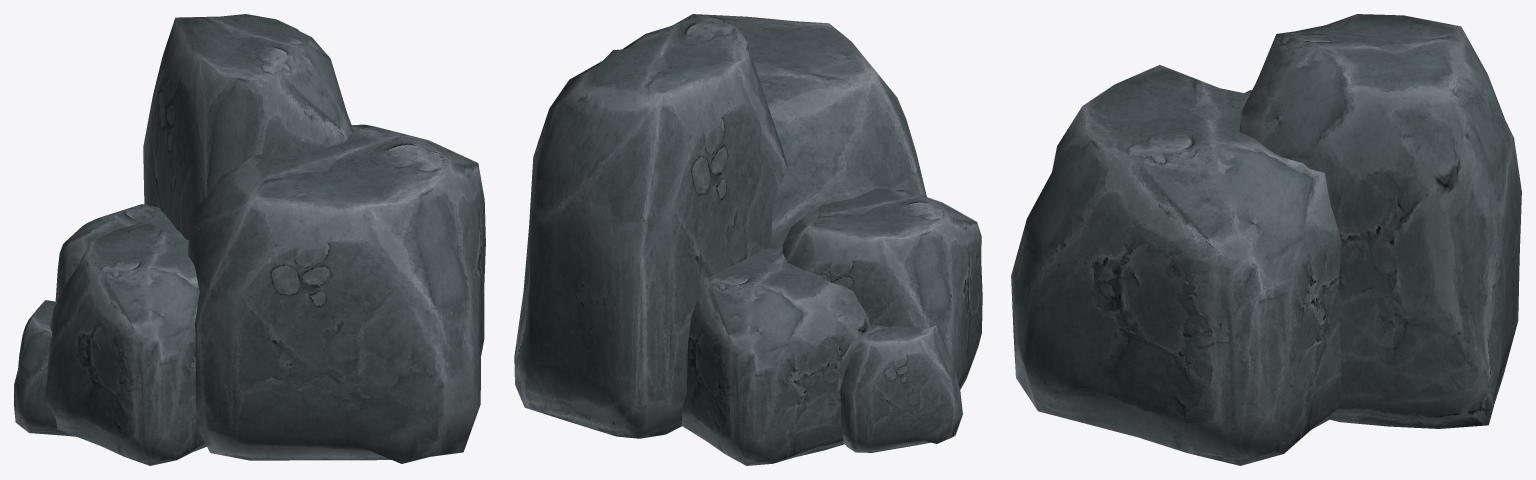
The picture shows the model from 3 angles, left to right: view 1: azimuth 30°, elevation 25°; view 2: azimuth 150°, elevation 25°; view 3: azimuth 270°, elevation 25°; orthographic projection. The views are drawn at different scales.
Parts seen in each view (by area): view 1: Rocalow.003, Rocalow.004, Rocalow.005, Rocalow.002, Rocalow.001; view 2: Rocalow.005, Rocalow.001, Rocalow.003, Rocalow.004, Rocalow.002; view 3: Rocalow.003, Rocalow.005.
Part boxes in pixels (left/top/right/bottom): Rocalow.003: left=188, top=124, right=485, bottom=463; Rocalow.004: left=45, top=221, right=206, bottom=465; Rocalow.005: left=143, top=14, right=353, bottom=239; Rocalow.002: left=14, top=300, right=76, bottom=436; Rocalow.001: left=55, top=204, right=185, bottom=301; Rocalow.005: left=514, top=21, right=787, bottom=438; Rocalow.001: left=681, top=245, right=870, bottom=465; Rocalow.003: left=673, top=14, right=926, bottom=247; Rocalow.004: left=782, top=188, right=982, bottom=389; Rocalow.002: left=840, top=324, right=962, bottom=452; Rocalow.003: left=1011, top=65, right=1341, bottom=465; Rocalow.005: left=1239, top=14, right=1521, bottom=428.
Size of the model in its own units: 1.06 by 0.8121 by 1.05.
Materials: 1 (1 with a texture image).
